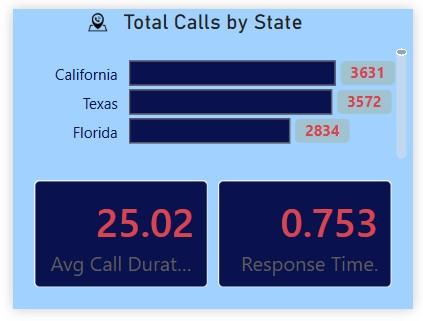

The page's visual inventory and layout, read from the dashboard file:
{"tool":"powerbi","page":{"name":"TT_States","canvas":[320,240],"ordinal":2},"visuals":[{"type":"barChart","fields":{"Category":["Call Center_Dataset.State"],"Y":["Call Center_Dataset.Total Calls"]},"box":[0,0,320,125],"z":1000},{"type":"cardVisual","fields":{"Data":["Call Center_Dataset.Avg Call Duration (min)","Call Center_Dataset.Response Time."]},"box":[0,120,320,120],"z":2000},{"type":"image","box":[49.1,3.2,37.7,15],"z":2001}]}

Visuals, with their boxes in screenshot pixels (x1, y1, x2, y2), scaled from the page's 320x240 canvas onto the 423x321 screenshot:
barChart - Call Center_Dataset.State x Call Center_Dataset.Total Calls: (x1=0, y1=0, x2=422, y2=167)
cardVisual - Call Center_Dataset.Avg Call Duration (min) x Call Center_Dataset.Response Time.: (x1=0, y1=160, x2=422, y2=320)
image: (x1=65, y1=4, x2=115, y2=24)
